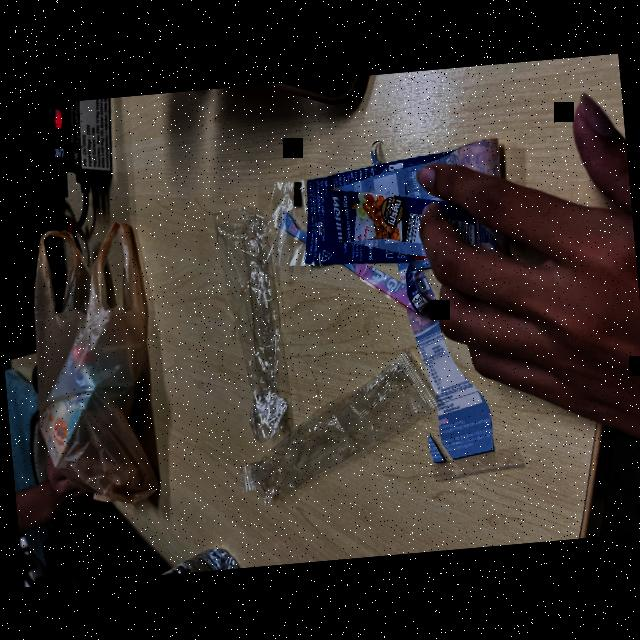scrap_plastic: (264, 130, 508, 310), (180, 180, 316, 446), (248, 352, 430, 524)
